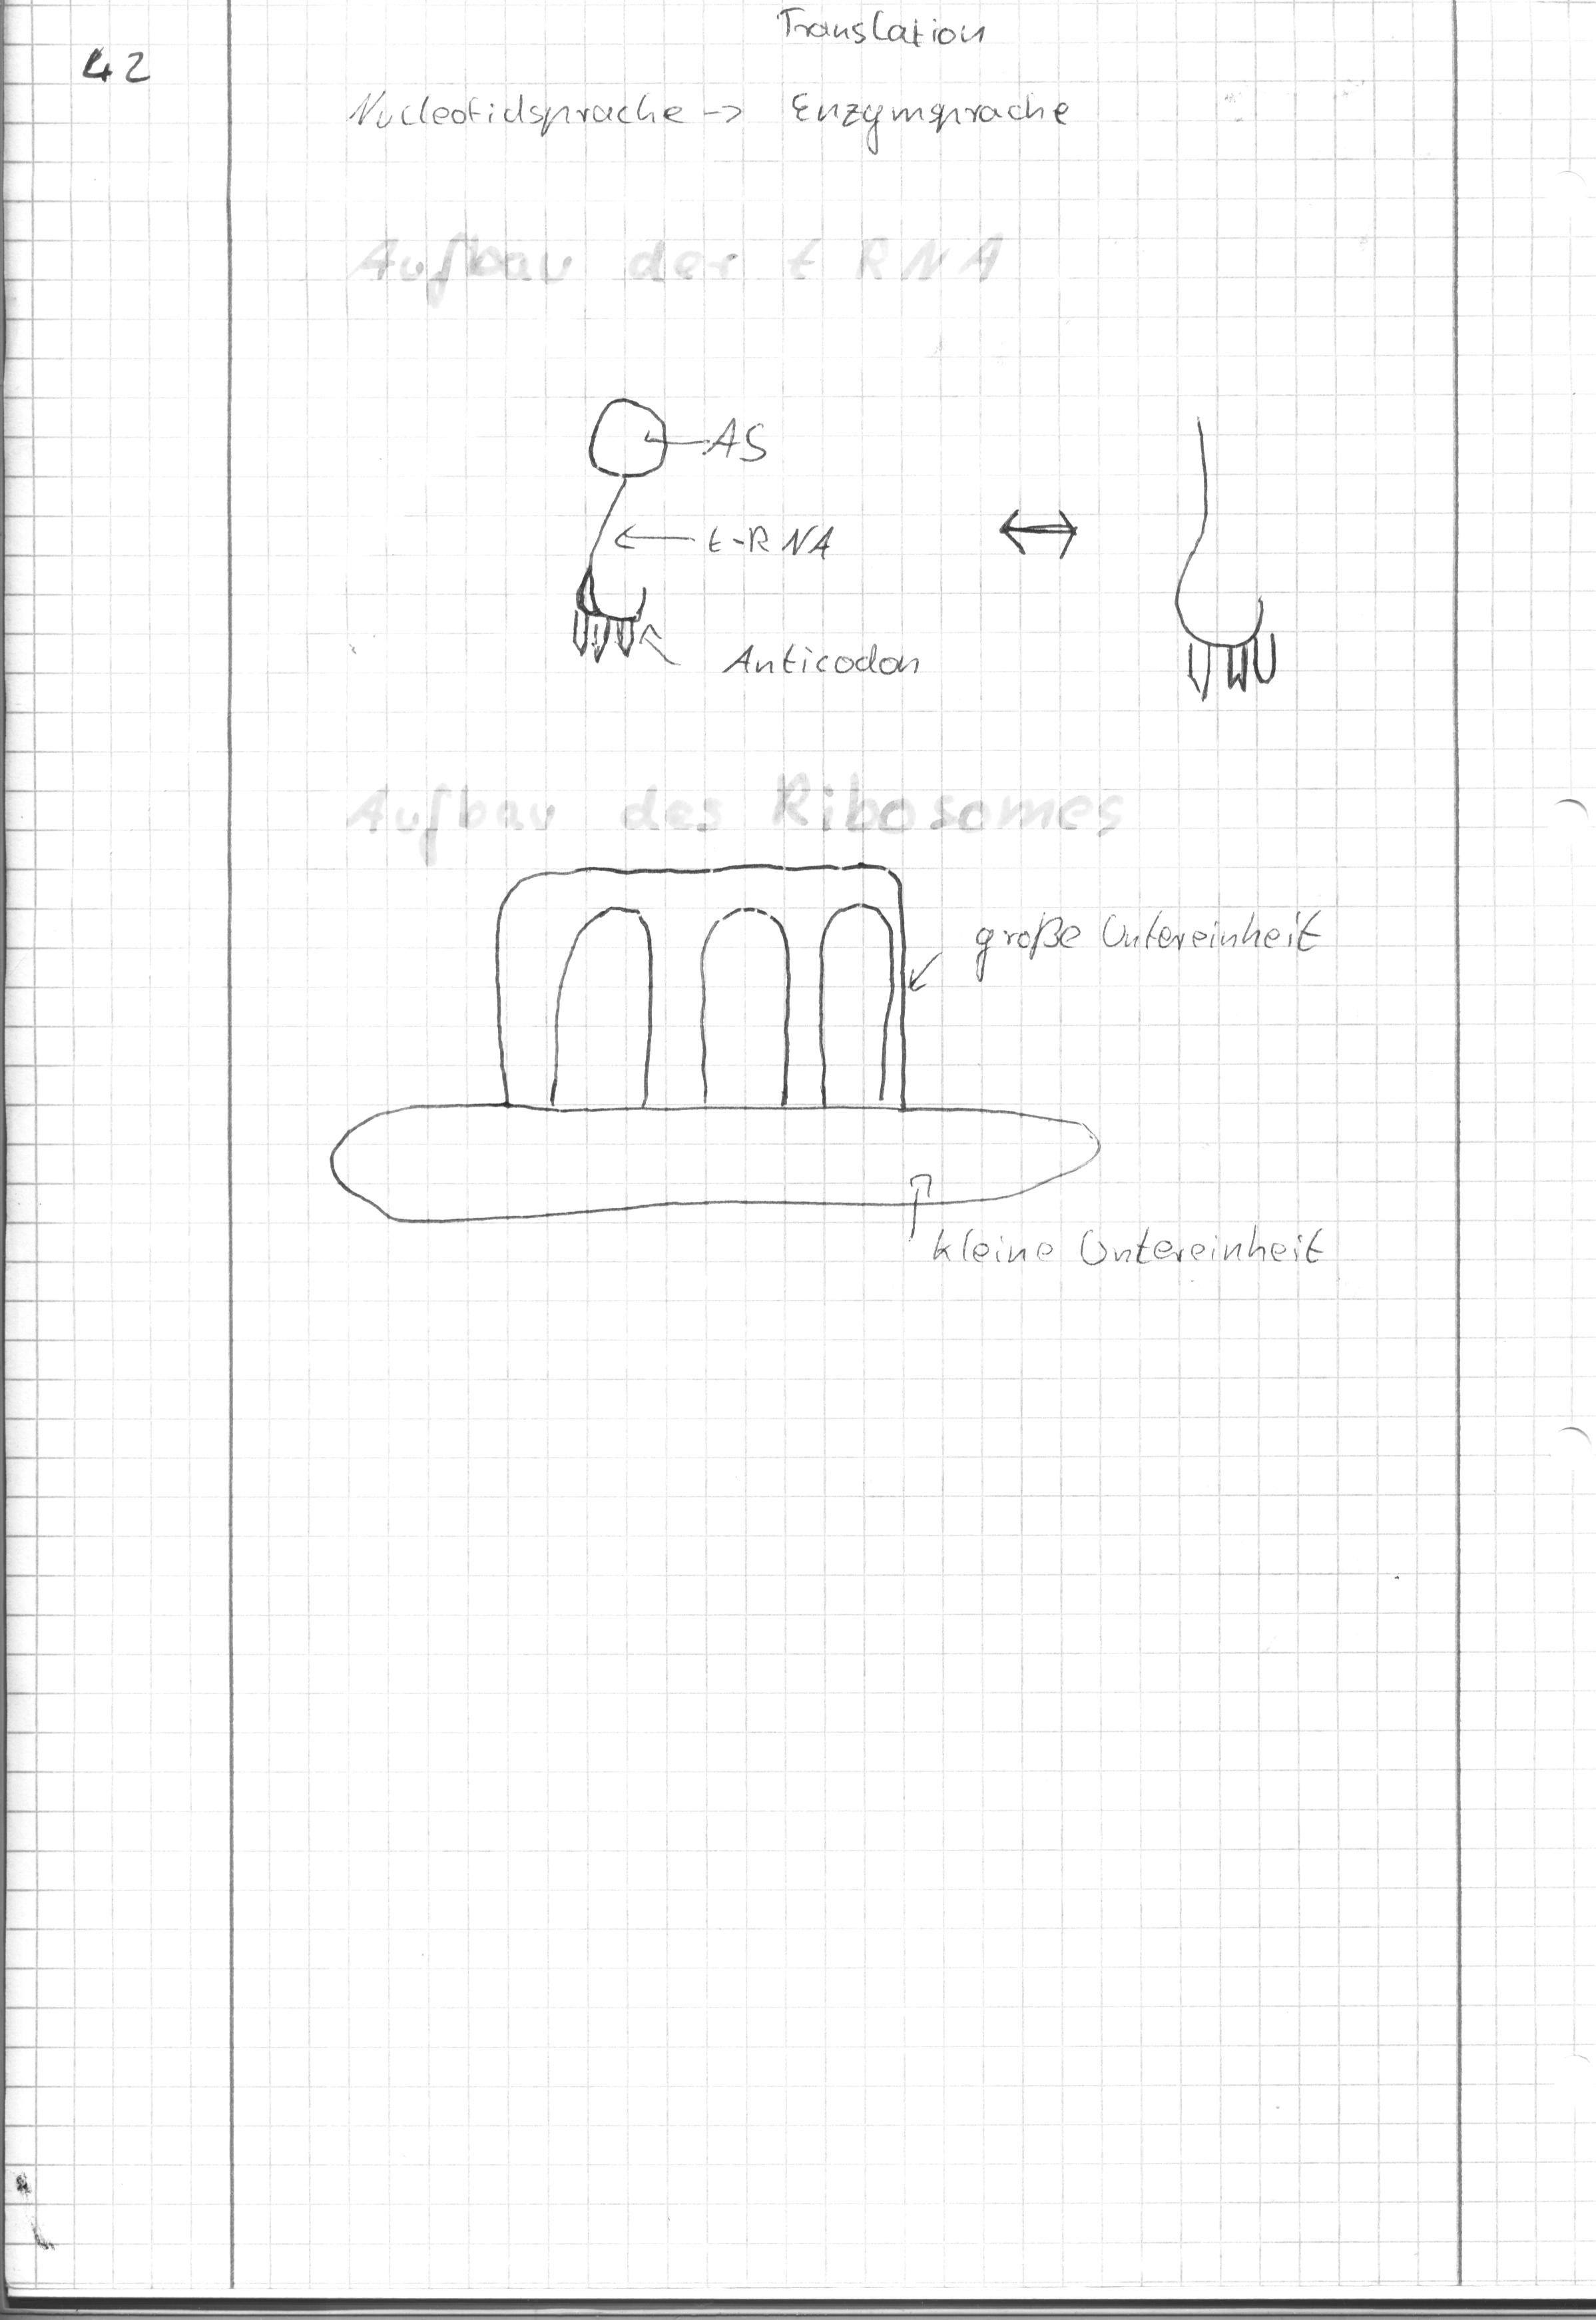word: (341, 63, 1073, 179), (696, 414, 945, 693), (917, 1203, 1336, 1287), (971, 904, 1330, 993), (758, 3, 1015, 55)
